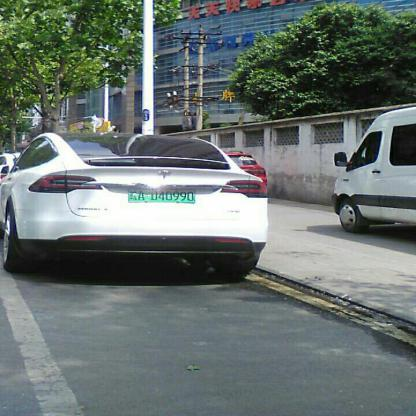lp: (129, 187, 196, 202)
